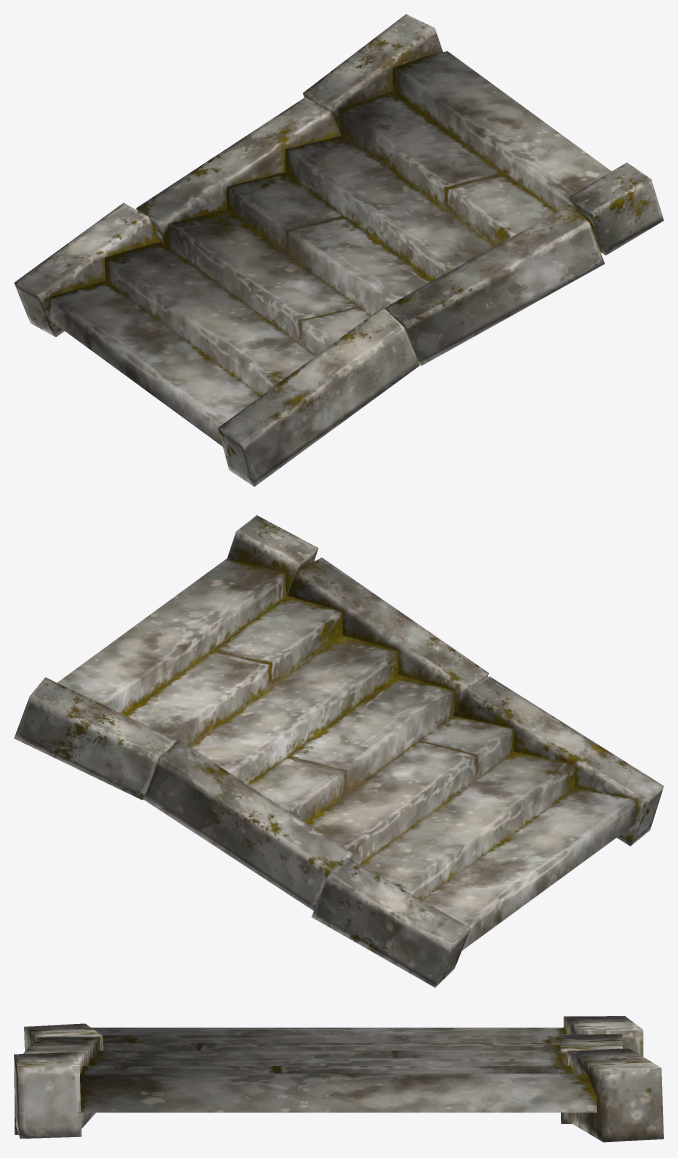
The model's file is Stairs4.fbx.
The picture shows the model from 3 angles, top to bottom: view 1: azimuth 30°, elevation 25°; view 2: azimuth 150°, elevation 25°; view 3: azimuth 270°, elevation 25°; orthographic projection. The views are drawn at different scales.
Visible parts, largest first — view 1: SM_a_001_Stairs_04a; view 2: SM_a_001_Stairs_04a; view 3: SM_a_001_Stairs_04a.
Part boxes in pixels (<box>): SM_a_001_Stairs_04a: <box>14,14,663,486</box>; SM_a_001_Stairs_04a: <box>14,515,663,987</box>; SM_a_001_Stairs_04a: <box>14,1016,663,1142</box>.
Bounding box in the file's own units: 293 × 140 × 282.
